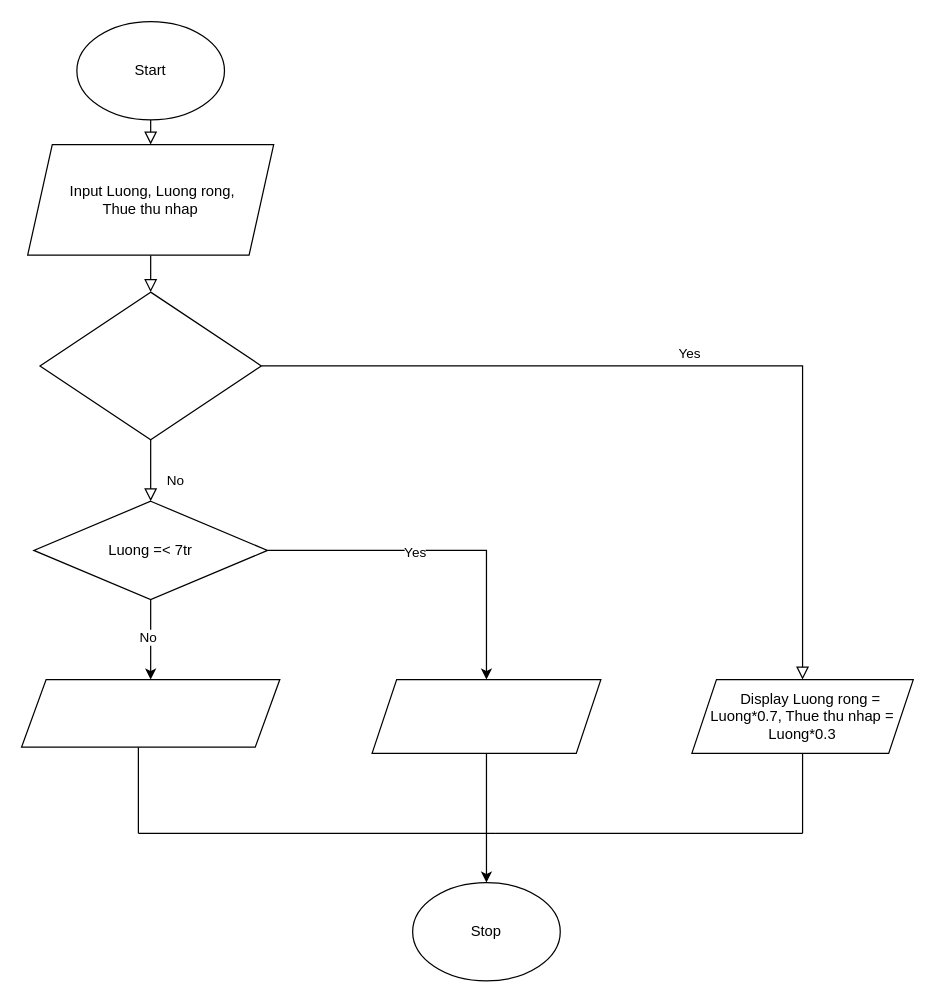
Image size: 935x1002. Some labels were removed from this diagram. The centre of each missing label's shape, as x and y in pixels:
"Display Luong rong = Luong*0.8, Thue thu nhap = Luong*0.2" goes at [150,712].
"Display Luong rong = Luong*0.9, Thue thu nhap = Luong*0.1" goes at [486,715].
"Luong > 15tr" goes at [150,365].
